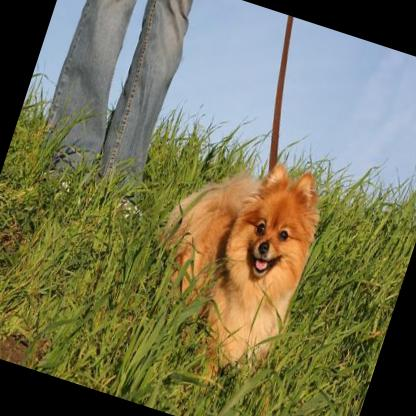Pomeranian: (123, 133, 334, 396)
